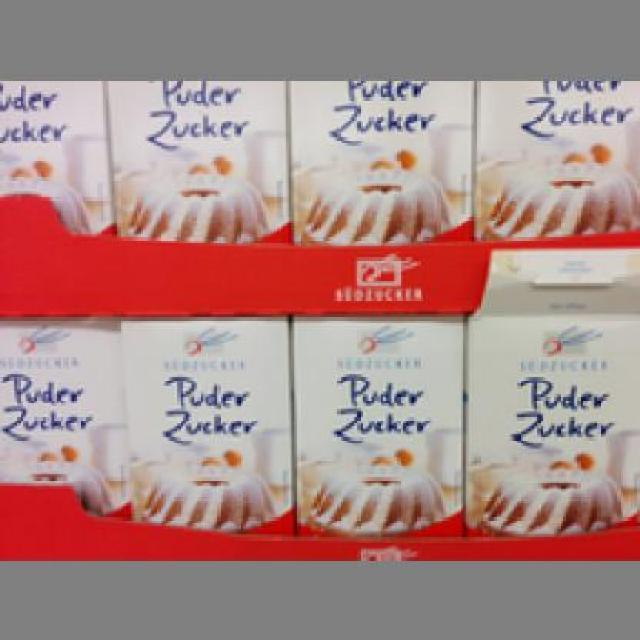Sugar: (466, 291, 634, 544), (118, 314, 292, 532), (288, 317, 462, 534), (286, 77, 468, 243), (103, 77, 286, 240), (474, 77, 637, 243), (0, 316, 120, 509), (0, 79, 106, 232)
